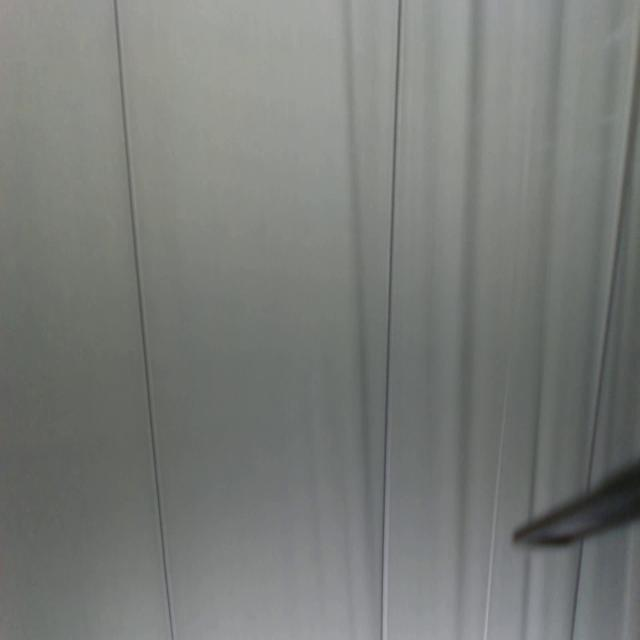crease: (112, 1, 178, 639), (380, 0, 404, 640), (480, 369, 514, 639), (569, 541, 585, 640)
